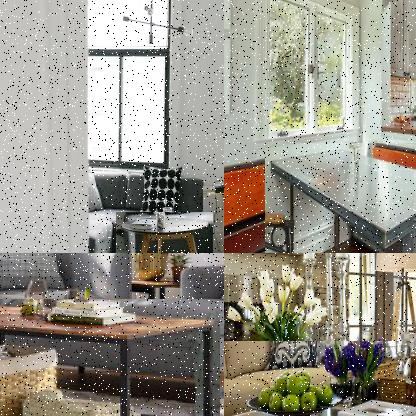table: (0, 299, 221, 415), (263, 143, 415, 252), (224, 341, 415, 415), (115, 212, 214, 252), (202, 186, 223, 252)
